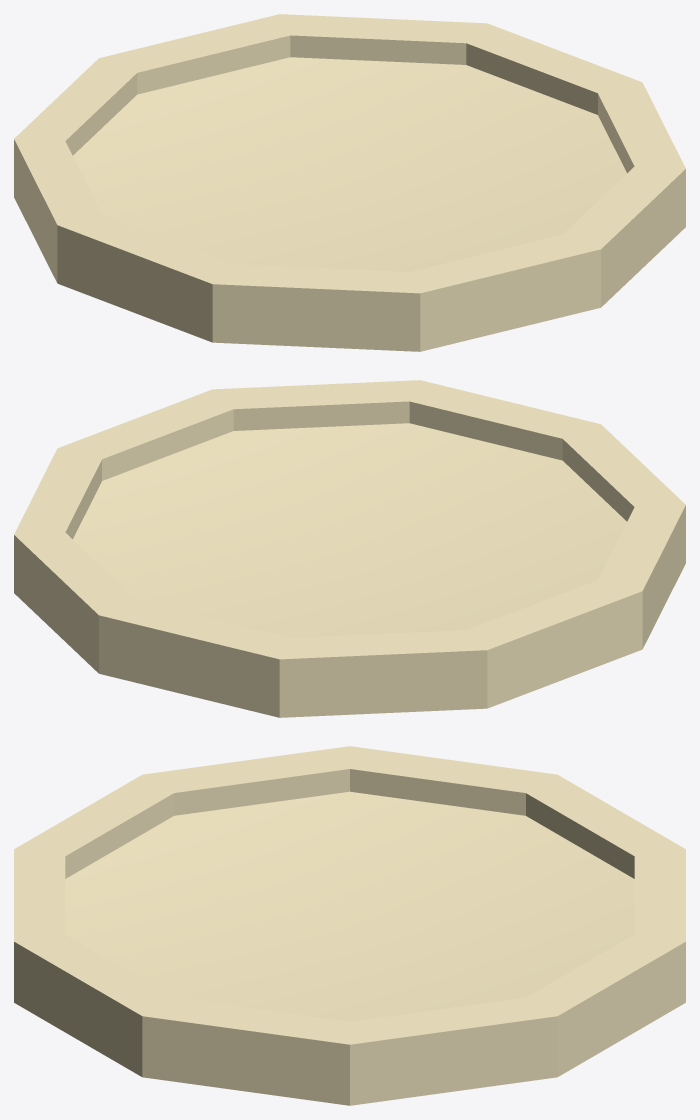
File: plate COMPLETE.fbx
3 views of the same model, one above another, from view 1: azimuth 30°, elevation 25°; view 2: azimuth 150°, elevation 25°; view 3: azimuth 270°, elevation 25° (orthographic). The views are drawn at different scales.
Visible parts, largest first — view 1: pCylinder1; view 2: pCylinder1; view 3: pCylinder1.
Boxes of the visible parts, x1,y1,x2,y2 form: pCylinder1: (14,14,685,351); pCylinder1: (14,380,685,717); pCylinder1: (14,746,685,1105).
Bounding box in the file's own units: 2 × 0.1909 × 1.9.
